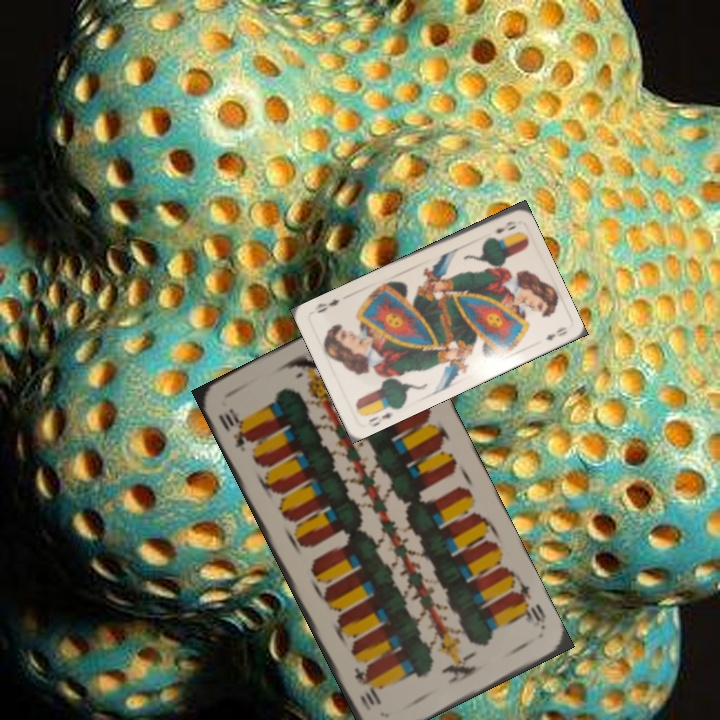E10: (508, 577, 549, 633), (214, 404, 255, 455)
EO: (365, 400, 397, 428), (491, 216, 518, 236)
